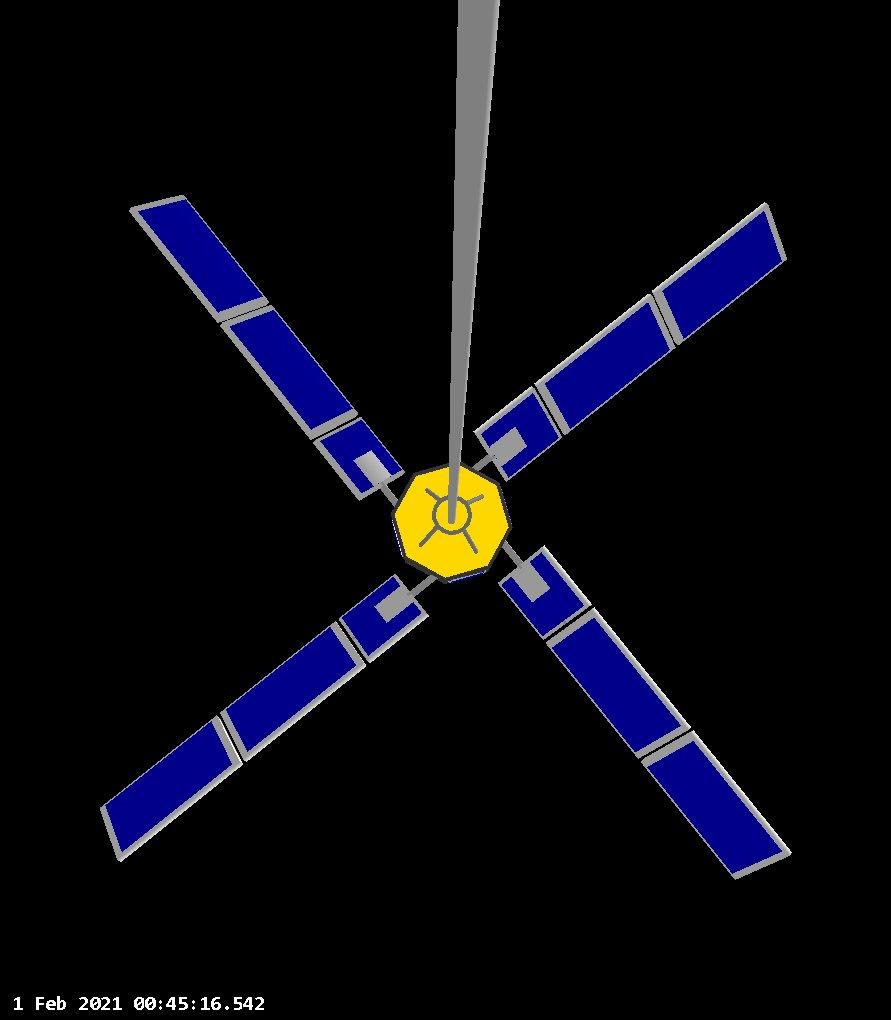antenna: (440, 0, 508, 529)
body: (392, 461, 511, 586)
solar: (494, 535, 794, 881), (96, 572, 434, 867), (469, 199, 792, 489), (124, 189, 408, 505)
